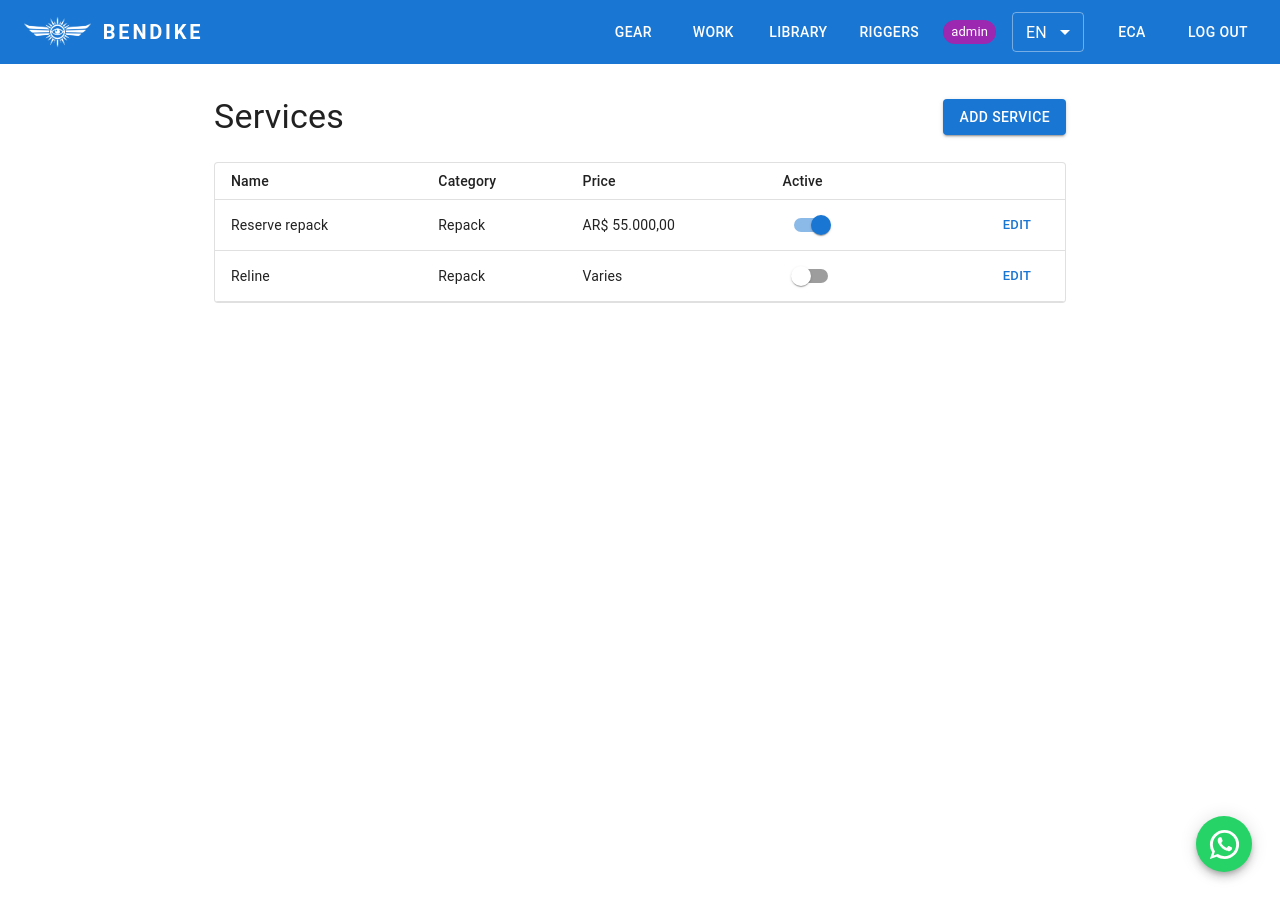
Scenario: ServicesAdminPage › shows the error when a change fails
Expected: the text "Reserve repack" is shown, [215,200,422,250]
Click the switch named "Active: Reserve repack" at (822, 225), box [812,215,832,235]
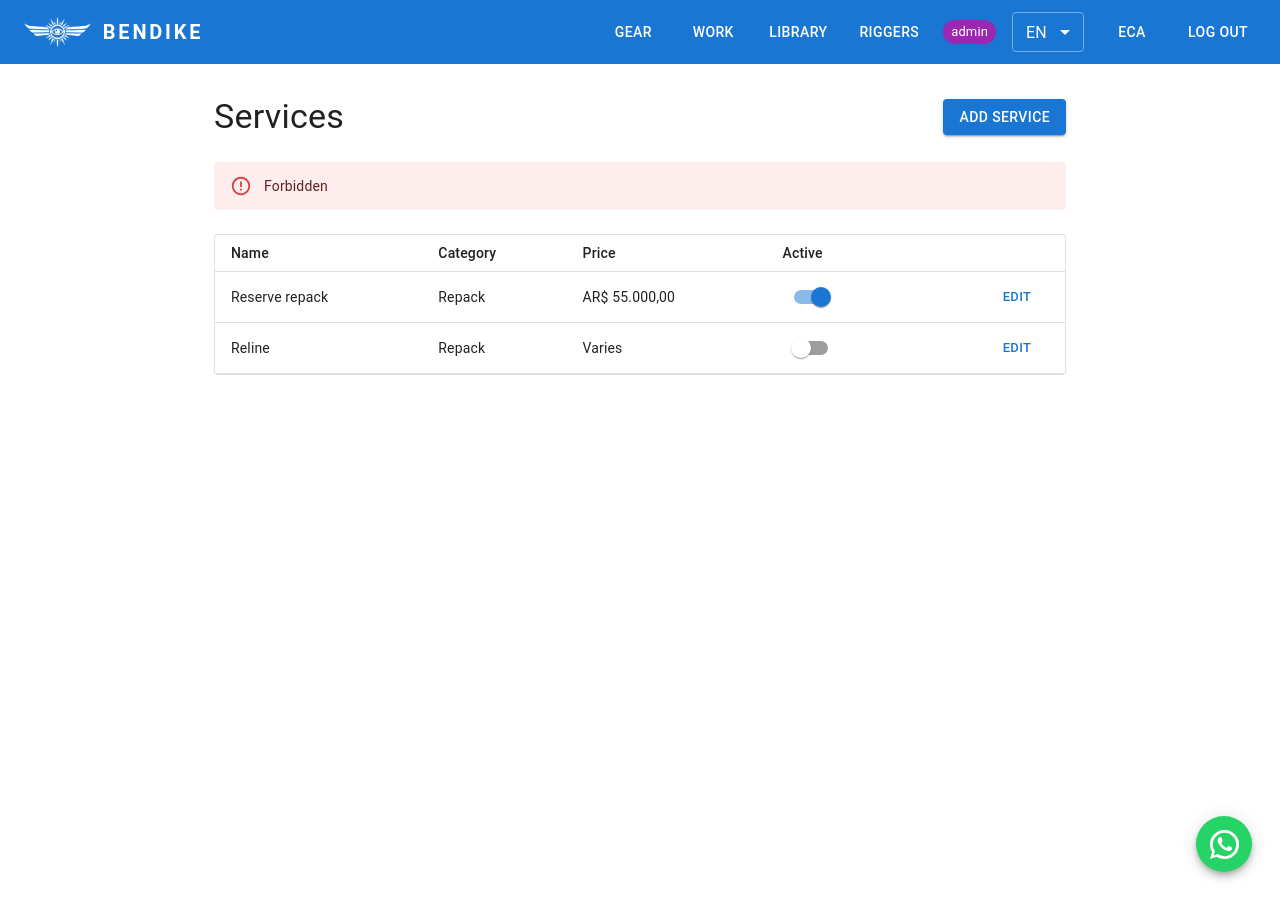
Expected: the text "Forbidden" is shown, [264,178,328,194]
